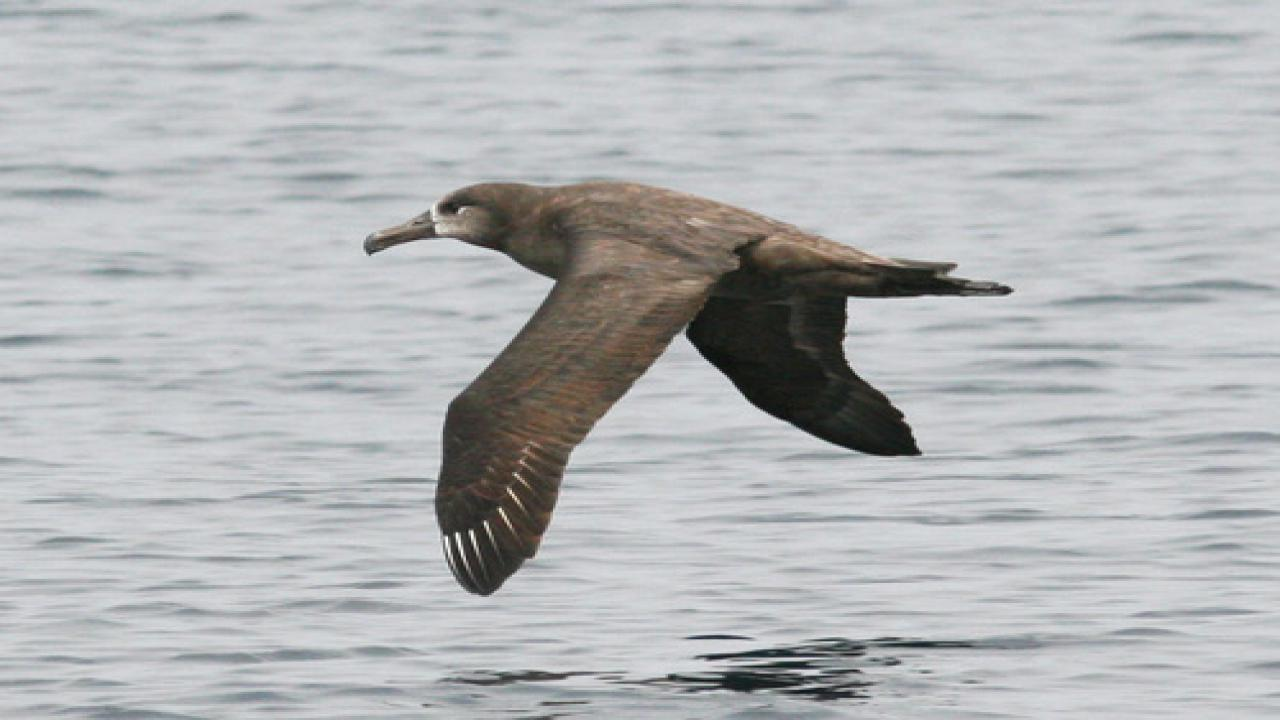Bird: (350, 172, 1023, 603)
